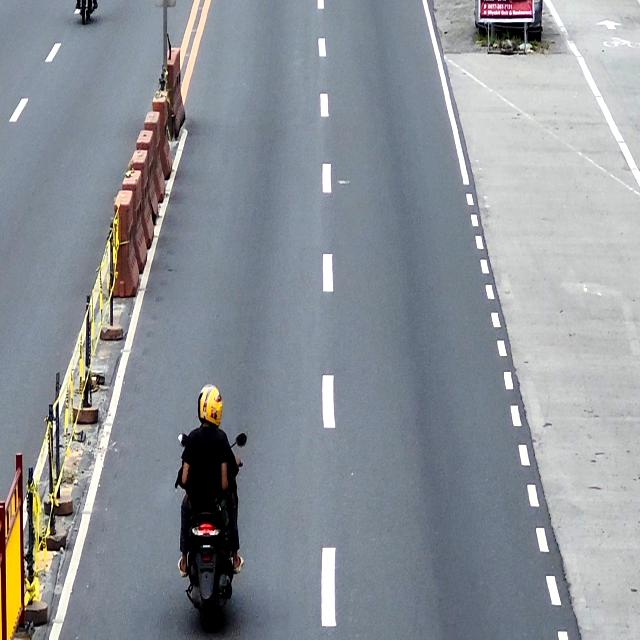Motorcycle: (176, 428, 246, 631)
